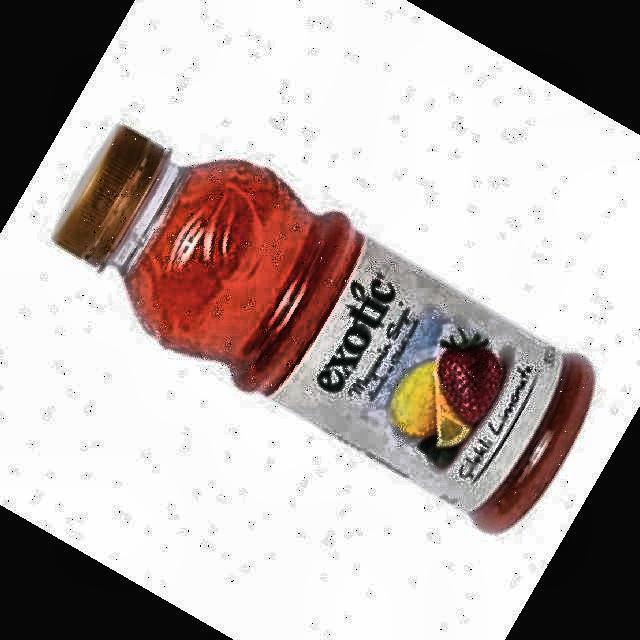plastic: (54, 126, 594, 532)
